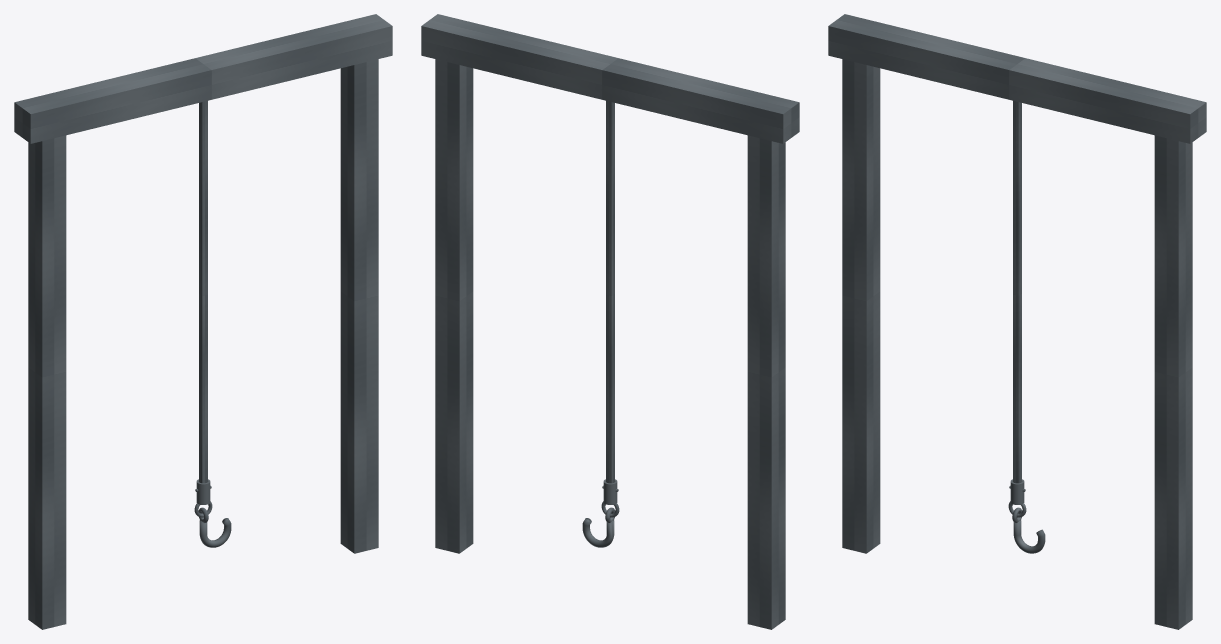
The model's file is cargo.hoist.r02.glb.
3 views of the same model, side by side, from view 1: azimuth 30°, elevation 25°; view 2: azimuth 150°, elevation 25°; view 3: azimuth 330°, elevation 25° (orthographic).
Parts seen in each view (by area): view 1: Hoist upright, Hoist upright.001, Hoist beam, Cable, terminal.hoist.r02.hook; view 2: Hoist upright, Hoist upright.001, Hoist beam, Cable, terminal.hoist.r02.hook; view 3: Hoist upright.001, Hoist upright, Hoist beam, Cable, terminal.hoist.r02.hook.
Part boxes in pixels (x1,y1,x2,y2): Hoist upright: [28, 135, 66, 629]; Hoist upright.001: [340, 59, 378, 553]; Hoist beam: [14, 14, 392, 143]; Cable: [199, 101, 207, 483]; terminal.hoist.r02.hook: [198, 507, 231, 547]; Hoist upright: [747, 135, 785, 629]; Hoist upright.001: [435, 59, 473, 553]; Hoist beam: [421, 14, 799, 143]; Cable: [606, 101, 614, 483]; terminal.hoist.r02.hook: [582, 507, 615, 547]; Hoist upright.001: [1154, 135, 1192, 629]; Hoist upright: [842, 59, 880, 553]; Hoist beam: [828, 14, 1206, 143]; Cable: [1013, 101, 1021, 483]; terminal.hoist.r02.hook: [1012, 507, 1045, 553].
Bounding box in the file's own units: 2.55 × 3.5 × 0.2.
Materials: 1 (1 with a texture image).
